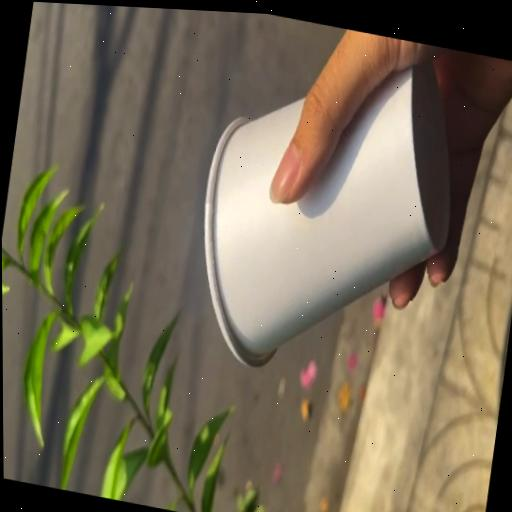Ly_giay: (205, 62, 450, 365)
